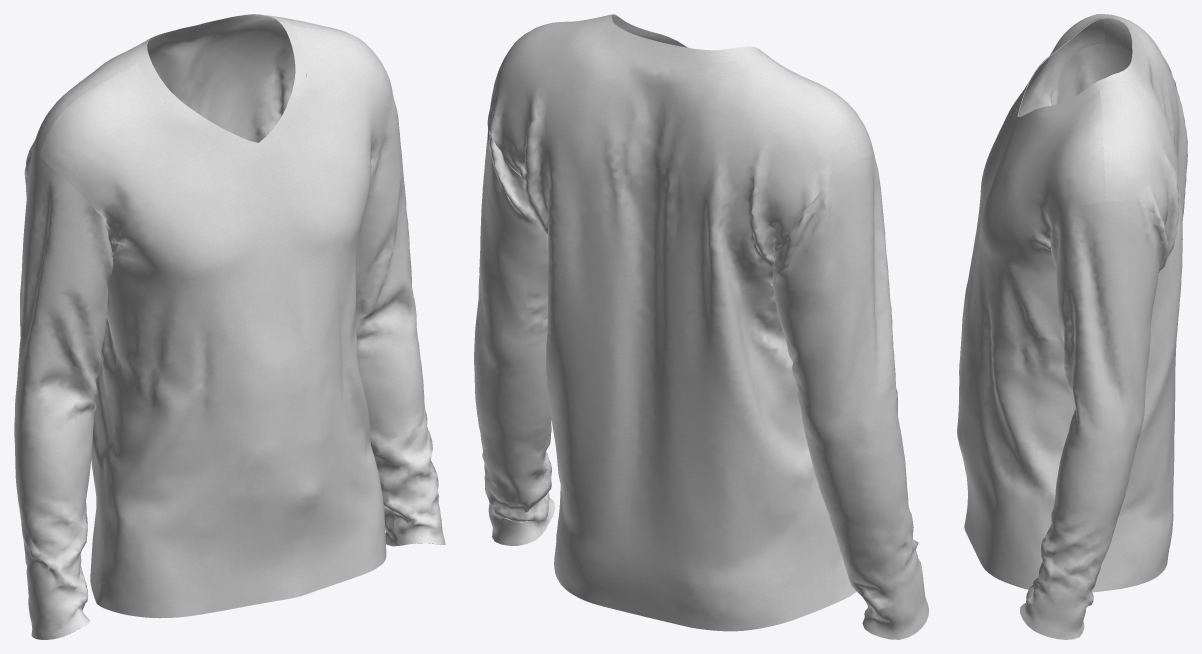
The picture shows the model from 3 angles, left to right: view 1: azimuth 30°, elevation 25°; view 2: azimuth 150°, elevation 25°; view 3: azimuth 270°, elevation 25°; orthographic projection. The views are drawn at different scales.
Parts seen in each view (by area): view 1: Body_Front, Body_Back, Ribbing_1; view 2: Body_Back, Body_Front, Ribbing_1; view 3: Body_Front, Body_Back, Ribbing_1.
Boxes of the visible parts, x1,y1,x2,y2 form: Body_Front: (14,25,445,639); Body_Back: (29,16,352,603); Ribbing_1: (134,14,305,158); Body_Back: (489,17,860,631); Body_Front: (474,21,928,639); Ribbing_1: (597,14,770,63); Body_Front: (957,14,1168,639); Body_Back: (1091,14,1187,592); Ribbing_1: (1011,17,1139,129).
Bounding box in the file's own units: 55.29 × 71.23 × 29.46.
Materials: 3 (3 with a texture image).
